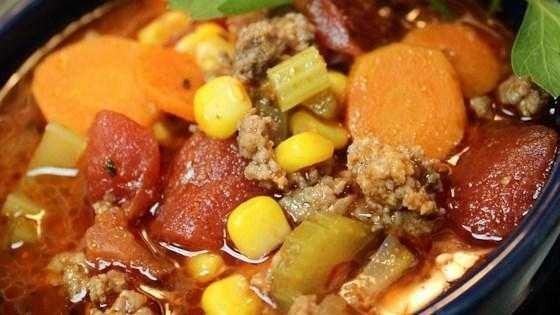soup: (2, 7, 546, 310)
